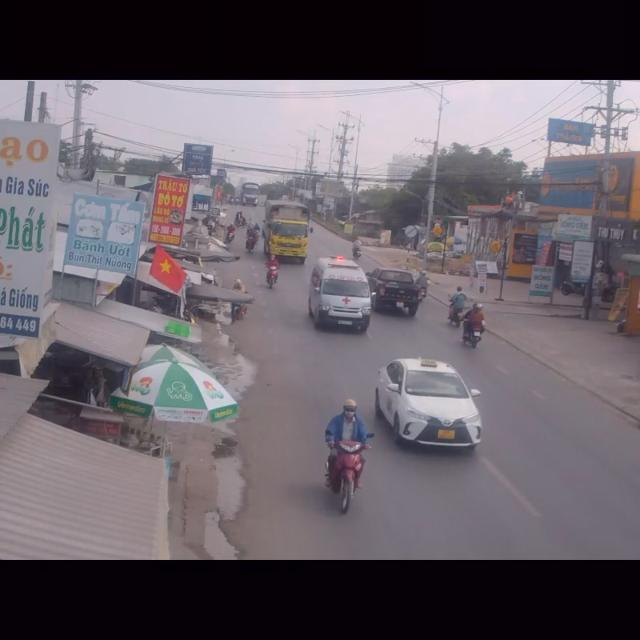car: (374, 356, 486, 456), (310, 258, 375, 342), (368, 263, 419, 315)
motorbike: (322, 394, 372, 516), (459, 301, 484, 350), (448, 284, 469, 328), (266, 252, 281, 291)
truck: (266, 202, 310, 264)
